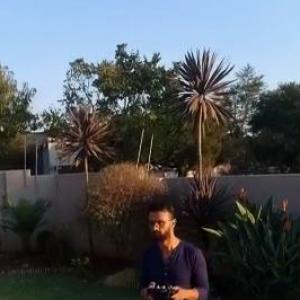follow: (132, 193, 211, 299)
